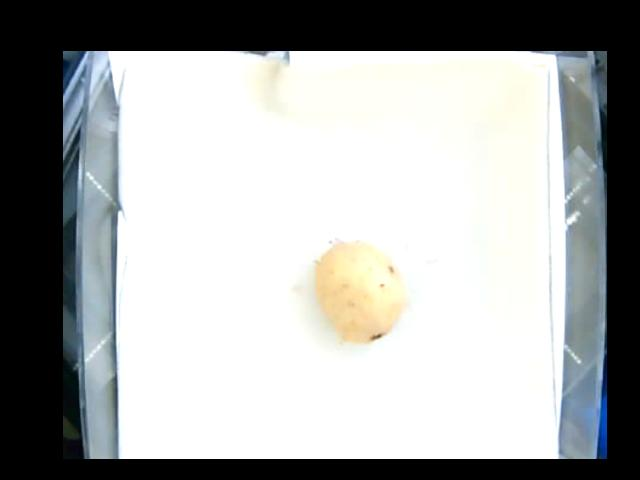Potato: (314, 235, 403, 340)
